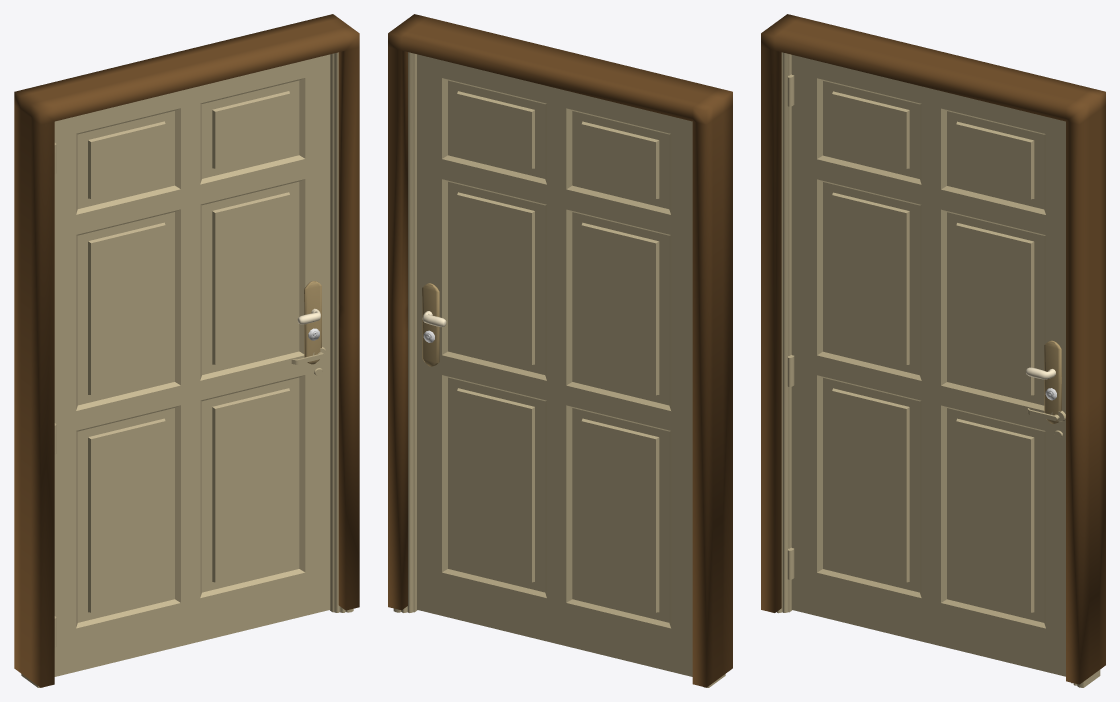
Rendered from cuarto404.gltf.
3 renders of one model, left to right at view 1: azimuth 30°, elevation 25°; view 2: azimuth 150°, elevation 25°; view 3: azimuth 330°, elevation 25°, orthographic.
Visible parts, largest first — view 1: 10057_wooden_door_v3_iterations-2, OutBoddy_Cube.002, Locker.001_Cube.004; view 2: 10057_wooden_door_v3_iterations-2, OutBoddy_Cube.002, Locker_Cube.003; view 3: 10057_wooden_door_v3_iterations-2, OutBoddy_Cube.002, Locker.001_Cube.004.
Part boxes in pixels (box(x1,y1,x2,y2)): 10057_wooden_door_v3_iterations-2: box(21, 52, 353, 687); OutBoddy_Cube.002: box(14, 14, 359, 687); Locker.001_Cube.004: box(304, 281, 321, 364); 10057_wooden_door_v3_iterations-2: box(393, 52, 725, 687); OutBoddy_Cube.002: box(388, 14, 732, 687); Locker_Cube.003: box(422, 283, 439, 366); 10057_wooden_door_v3_iterations-2: box(777, 52, 1100, 687); OutBoddy_Cube.002: box(761, 14, 1105, 684); Locker.001_Cube.004: box(1044, 340, 1061, 423).
Bounding box in the file's own units: 7.18 × 12.51 × 1.09.
